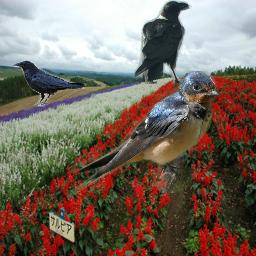Crow: (133, 0, 192, 84), (12, 60, 87, 107)
Swallow: (68, 71, 220, 199)
